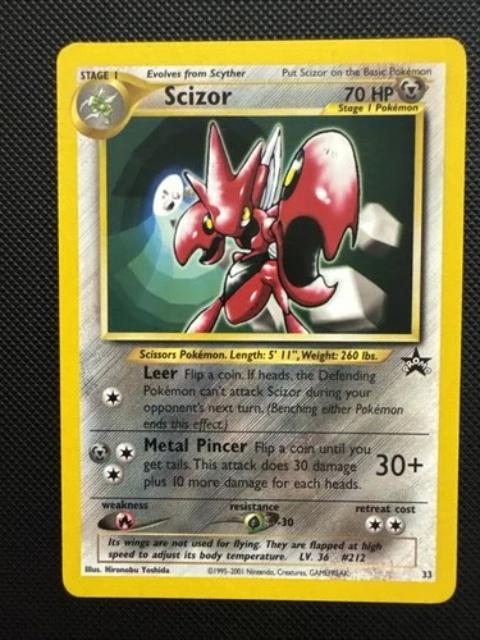Card: (54, 31, 468, 609)
Name: (155, 82, 239, 109)
